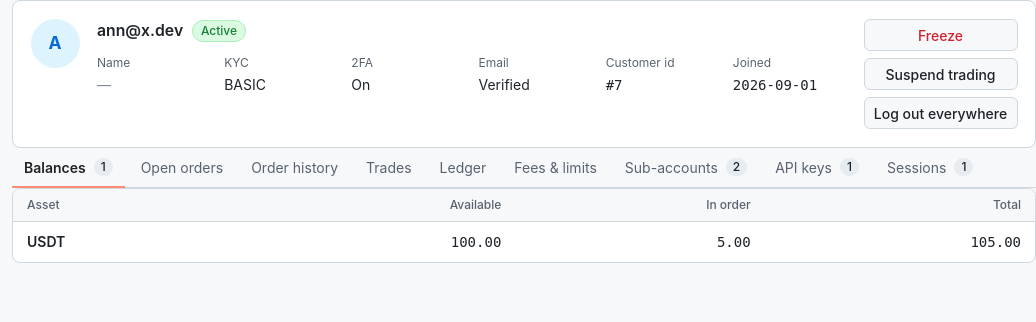
Scenario: Customer detail › shows the subs under their master, a sub frozen with it named as such
Expected: the heading "ann@x.dev" is shown, [97, 19, 183, 44]
Step 1. Click the tab "Sub-accounts 2" → (686, 168), box [613, 148, 759, 188]
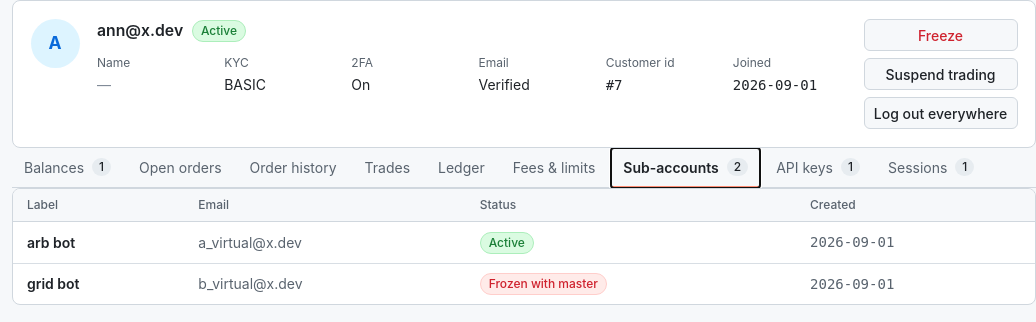
Result: the text "Frozen with master" is shown at [480, 273, 607, 295]
